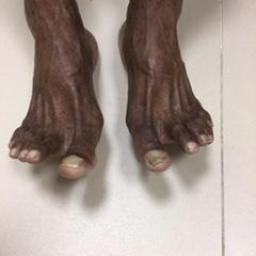Front View -Both Feet-: (3, 8, 221, 198)
